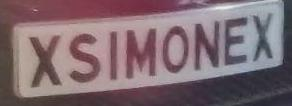0: (158, 21, 192, 80)
1: (99, 26, 126, 87)
E: (219, 11, 254, 70)
M: (120, 22, 158, 87)
N: (189, 16, 223, 75)
S: (63, 28, 105, 90)
X: (25, 30, 67, 88), (248, 8, 279, 64)
